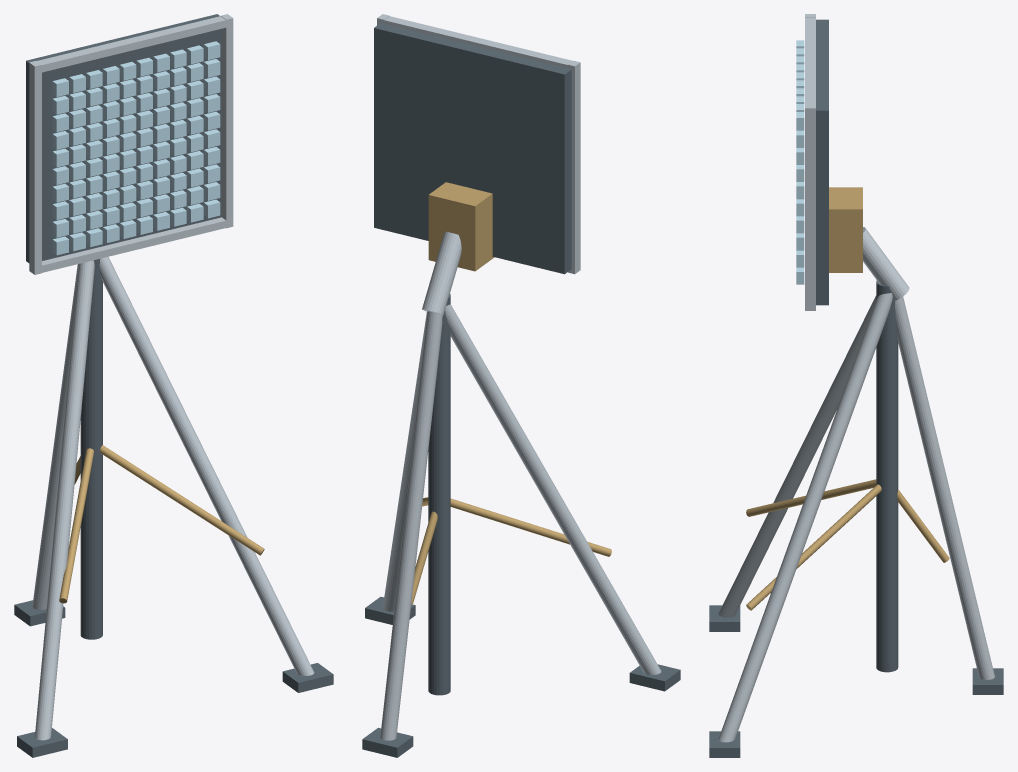
The model's file is left.glb.
3 views of the same model, side by side, from view 1: azimuth 30°, elevation 25°; view 2: azimuth 150°, elevation 25°; view 3: azimuth 270°, elevation 25° (orthographic). The views are drawn at different scales.
Visible parts, largest first — view 1: Reflector backing plate, Tripod support leg 1, Tripod support leg 2, Central support column, Tripod support leg 3, Vertical aluminium frame, Vertical aluminium frame.001, Horizontal aluminium frame.001, Horizontal aluminium frame, Tripod reinforcement.001, Tripod reinforcement, Tripod foot 2 (+2 smaller); view 2: Reflector backing plate, Central support column, Tripod support leg 3, Tripod support leg 1, Central rear mounting bracket, Vertical aluminium frame, Tripod support leg 2, Tilt adjustment shaft, Horizontal aluminium frame.001, Tripod reinforcement, Tripod foot 3, Tripod foot 1 (+2 smaller); view 3: Central support column, Tripod support leg 2, Tripod support leg 3, Tripod support leg 1, Reflector backing plate, Central rear mounting bracket, Vertical aluminium frame.001, Tilt adjustment shaft, Tripod reinforcement.001, Tripod reinforcement, Horizontal aluminium frame.001, Tripod reinforcement.002 (+3 smaller).
Boxes of the visible parts, x1,y1,x2,y2 form: Reflector backing plate: (26, 14, 221, 262); Tripod support leg 1: (35, 260, 94, 740); Tripod support leg 2: (99, 256, 314, 675); Central support column: (80, 259, 102, 639); Tripod support leg 3: (32, 264, 78, 609); Vertical aluminium frame: (29, 61, 41, 274); Vertical aluminium frame.001: (221, 14, 233, 228); Horizontal aluminium frame.001: (36, 16, 227, 73); Horizontal aluminium frame: (36, 217, 226, 273); Tripod reinforcement.001: (100, 445, 264, 555); Tripod reinforcement: (59, 448, 93, 603); Tripod foot 2: (282, 663, 333, 692); Reflector backing plate: (374, 23, 571, 274); Central support column: (428, 294, 450, 695); Tripod support leg 3: (380, 311, 442, 740); Tripod support leg 1: (445, 304, 661, 674); Central rear mounting bracket: (428, 182, 494, 271); Vertical aluminium frame: (568, 60, 580, 274); Tripod support leg 2: (382, 312, 427, 611); Tilt adjustment shaft: (422, 231, 461, 315); Horizontal aluminium frame.001: (379, 16, 572, 68); Tripod reinforcement: (450, 498, 611, 556); Tripod foot 3: (362, 727, 413, 757); Tripod foot 1: (629, 664, 680, 691); Central support column: (876, 280, 898, 672); Tripod support leg 2: (718, 293, 892, 742); Tripod support leg 3: (895, 297, 994, 679); Tripod support leg 1: (718, 295, 876, 617); Reflector backing plate: (816, 19, 828, 305); Central rear mounting bracket: (829, 187, 862, 272); Vertical aluminium frame.001: (805, 105, 815, 310); Tilt adjustment shaft: (863, 227, 909, 300); Tripod reinforcement.001: (746, 484, 881, 610); Tripod reinforcement: (746, 479, 876, 516); Horizontal aluminium frame.001: (805, 17, 815, 104); Tripod reinforcement.002: (897, 489, 949, 562).
Size of the model in its own units: 0.77 by 1.57 by 0.67.
